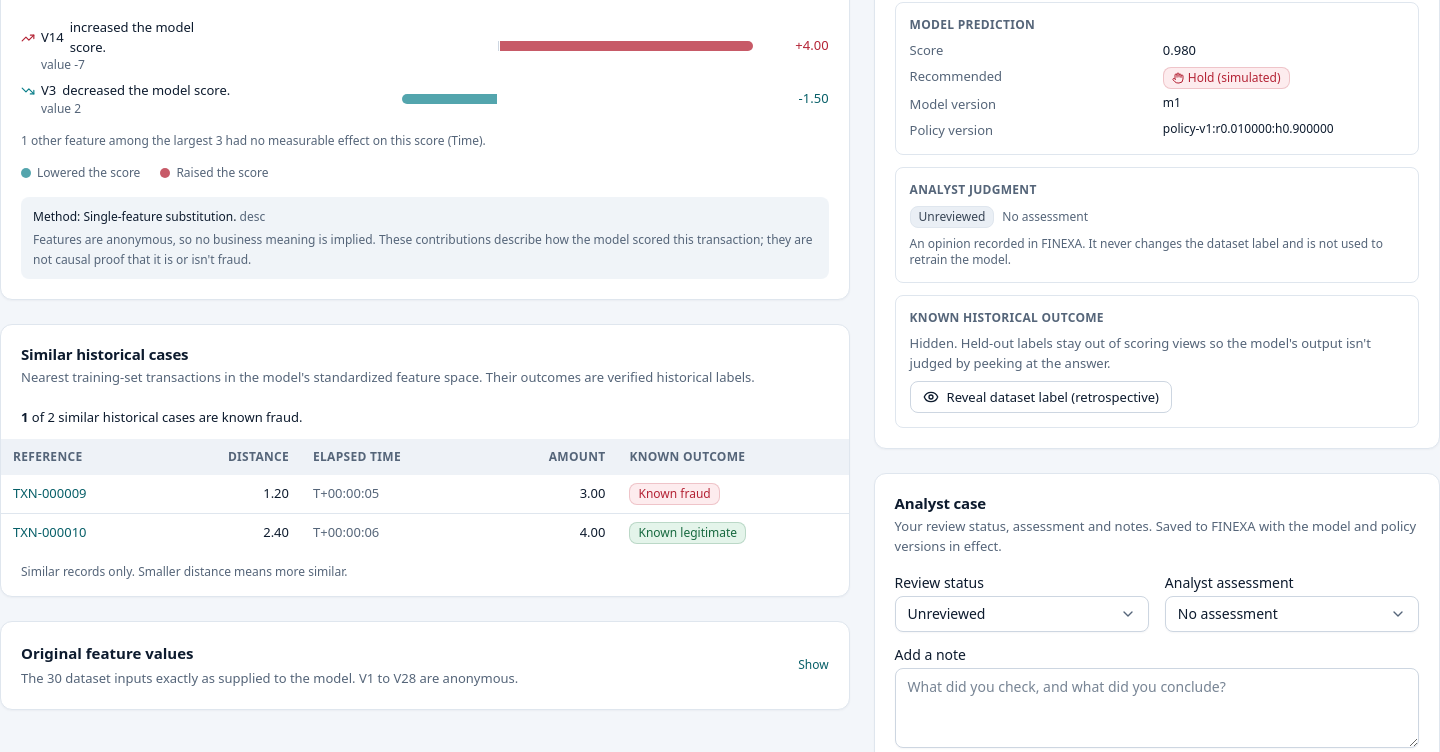
case investigation page › reveals the dataset label only on request
(page scrolled)
Click the button "Reveal dataset label (retrospective)" at (1041, 397), box left=910, top=381, right=1172, bottom=413
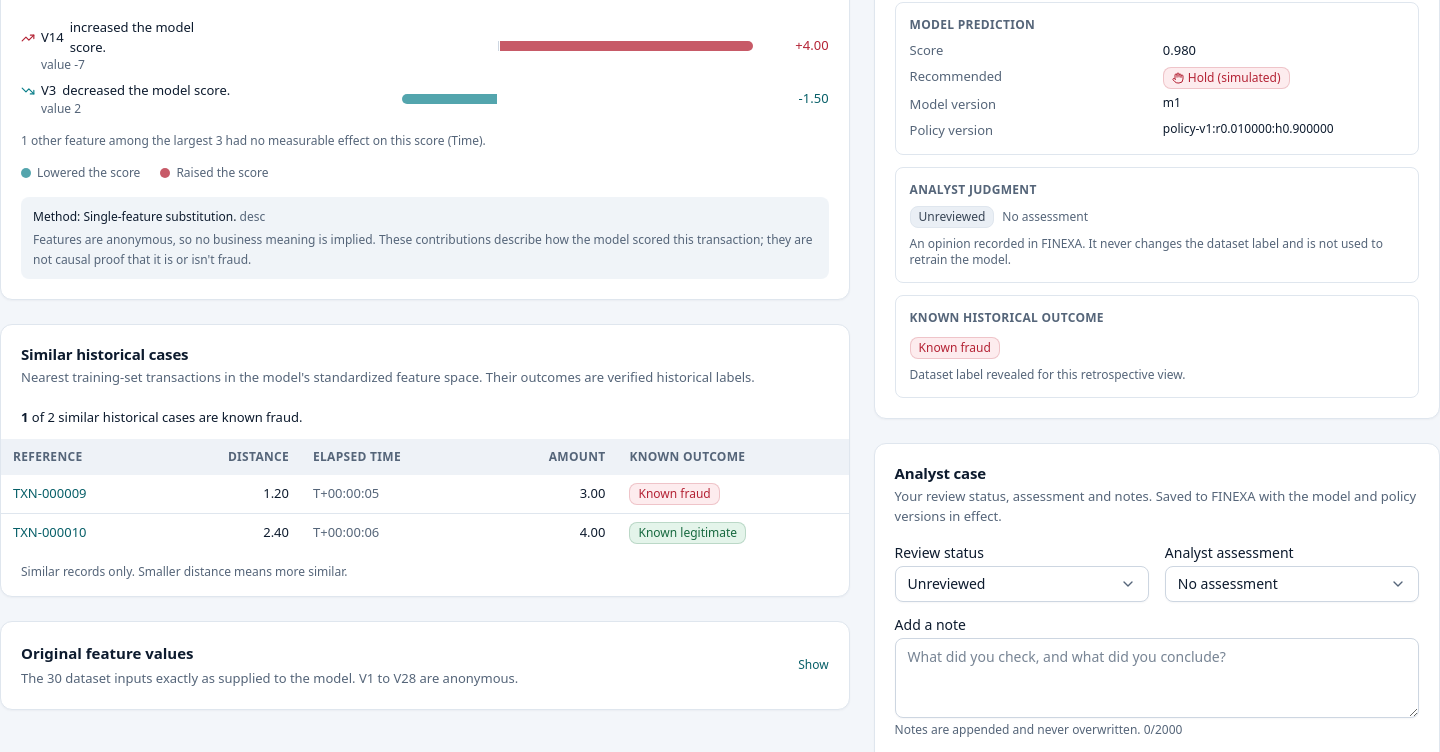
expect the element labelled "Known historical outcome" shows "Known fraud": met, box left=919, top=339, right=991, bottom=356
